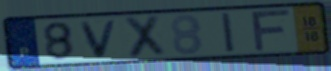8: (170, 12, 205, 57), (41, 20, 78, 62)
F: (249, 8, 294, 54)
I: (219, 11, 238, 55)
V: (78, 18, 121, 60)
X: (122, 14, 168, 60)
